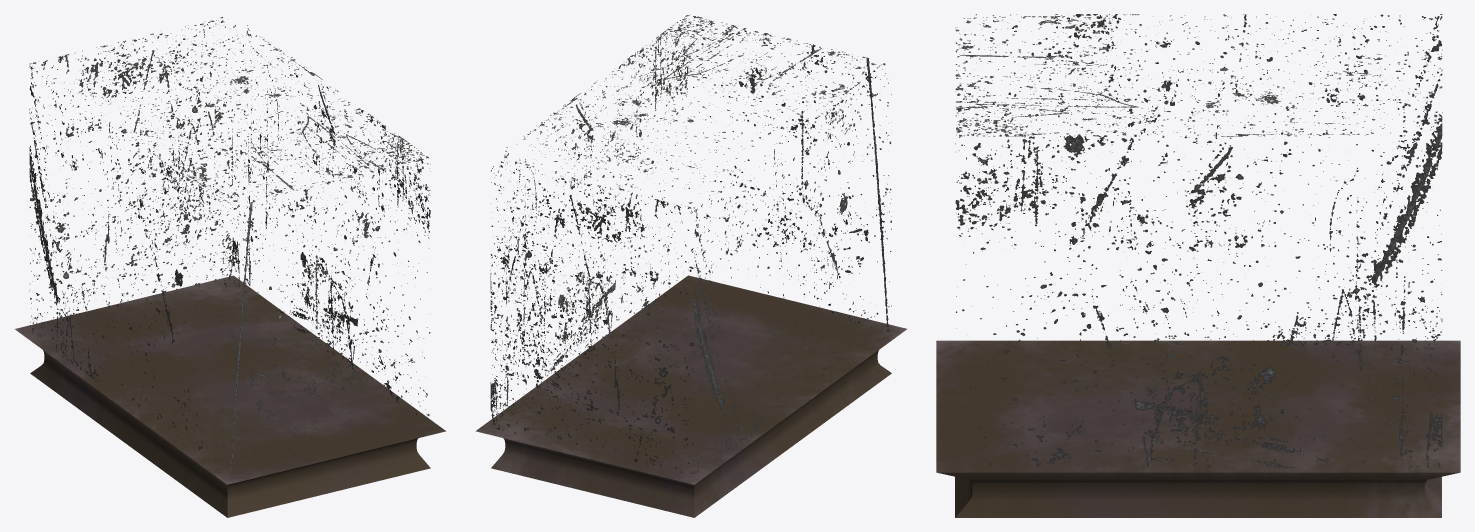
The model's file is displayBox2.fbx.
3 renders of one model, left to right at view 1: azimuth 30°, elevation 25°; view 2: azimuth 150°, elevation 25°; view 3: azimuth 270°, elevation 25°, orthographic. The views are drawn at different scales.
Visible parts, largest first — view 1: DisplayBoxVar018, GlassBox025; view 2: DisplayBoxVar018, GlassBox025; view 3: DisplayBoxVar018, GlassBox025.
Boxes of the visible parts, x1,y1,x2,y2 form: DisplayBoxVar018: (15, 275, 445, 517); GlassBox025: (29, 17, 430, 476); DisplayBoxVar018: (475, 275, 906, 517); GlassBox025: (490, 14, 891, 476); DisplayBoxVar018: (936, 340, 1460, 517); GlassBox025: (955, 14, 1442, 467).
Bounding box in the file's own units: 169 × 228 × 284.
2 materials, 2 textured.
